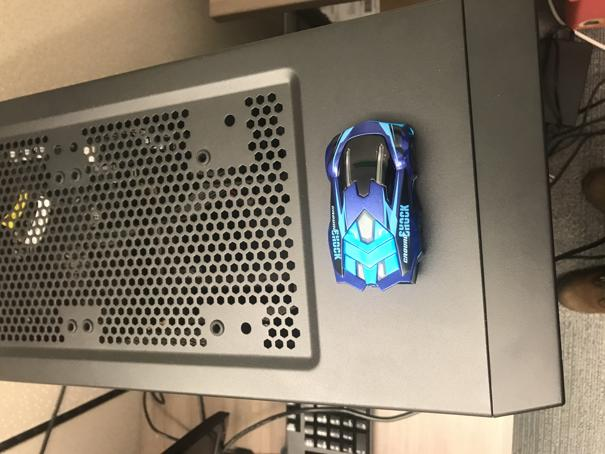Shock: (326, 120, 427, 291)
